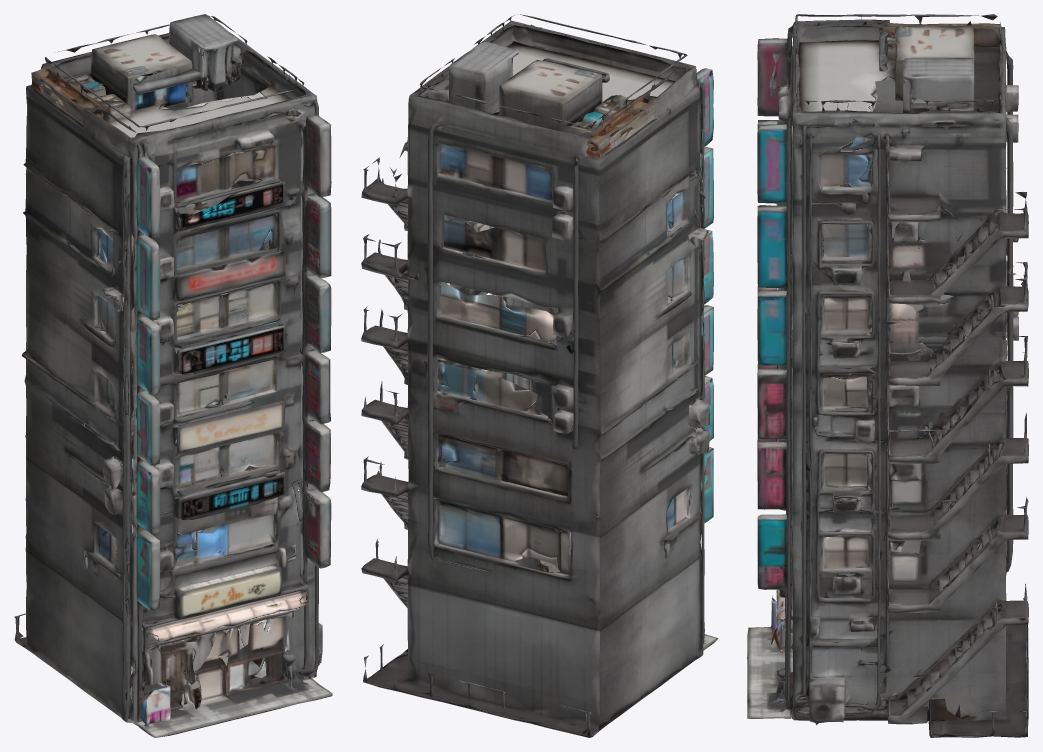
File: city_zakkyo_a.0.glb
3 views of the same model, side by side, from view 1: azimuth 30°, elevation 25°; view 2: azimuth 150°, elevation 25°; view 3: azimuth 270°, elevation 25° (orthographic). The views are drawn at different scales.
Parts seen in each view (by area): view 1: geometry_0; view 2: geometry_0; view 3: geometry_0.
Part boxes in pixels (x1,y1,x2,y2): geometry_0: (14,14,332,737); geometry_0: (361,14,718,737); geometry_0: (747,14,1028,737).
Bounding box in the file's own units: 0.4093 × 0.9969 × 0.4014.
Materials: 1 (1 with a texture image).
